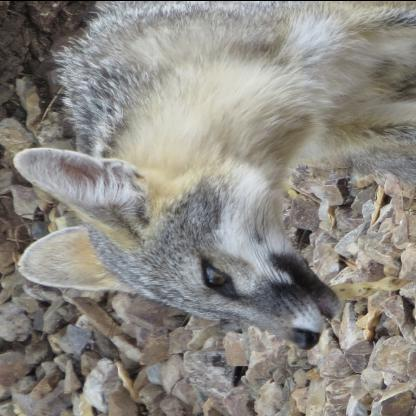zorro: (1, 1, 414, 365)
